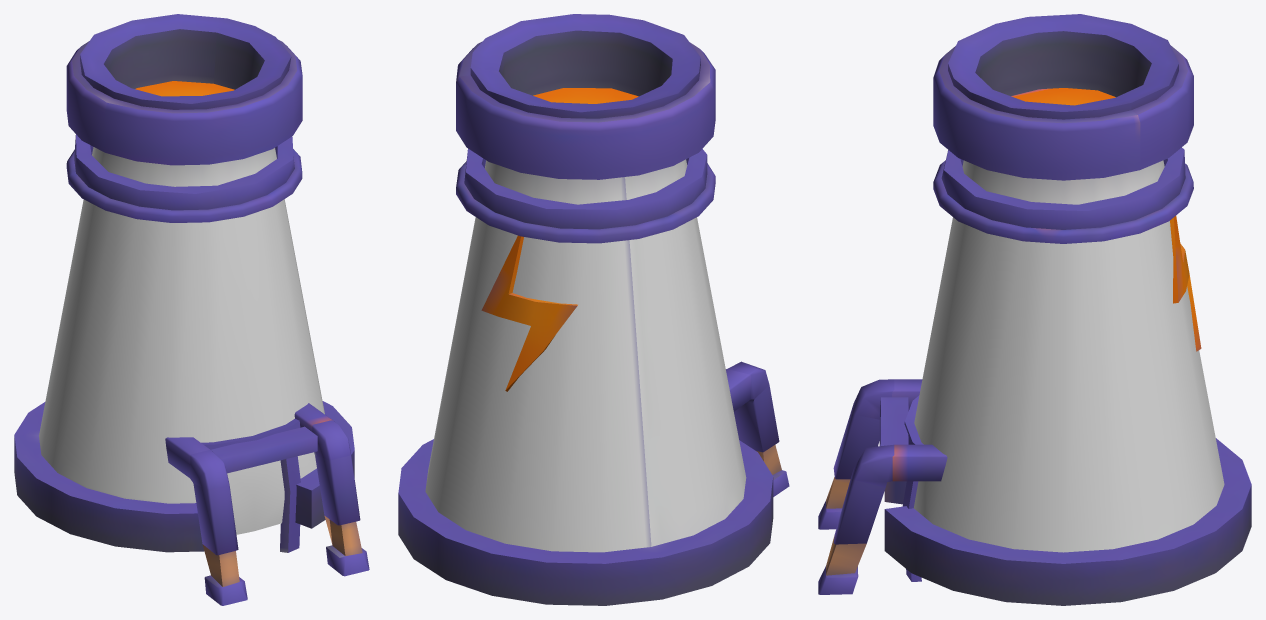
The picture shows the model from 3 angles, left to right: view 1: azimuth 30°, elevation 25°; view 2: azimuth 150°, elevation 25°; view 3: azimuth 270°, elevation 25°; orthographic projection. The views are drawn at different scales.
Visible parts, largest first — view 1: 电塔2; view 2: 电塔2; view 3: 电塔2.
Part boxes in pixels (<box>): 电塔2: <box>14,14,369,605</box>; 电塔2: <box>398,14,789,605</box>; 电塔2: <box>818,14,1251,605</box>.
Bounding box in the file's own units: 3.97 × 5.77 × 4.57.
Materials: 1 (1 with a texture image).
